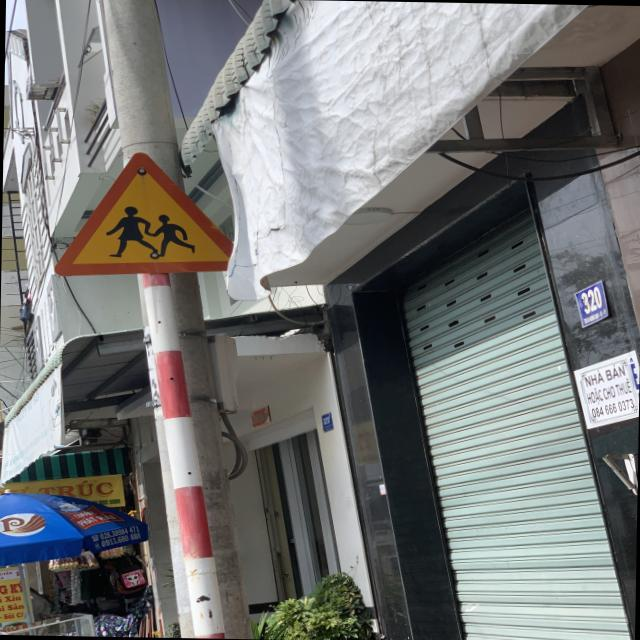Vong_Xuyen: (56, 151, 232, 281)
